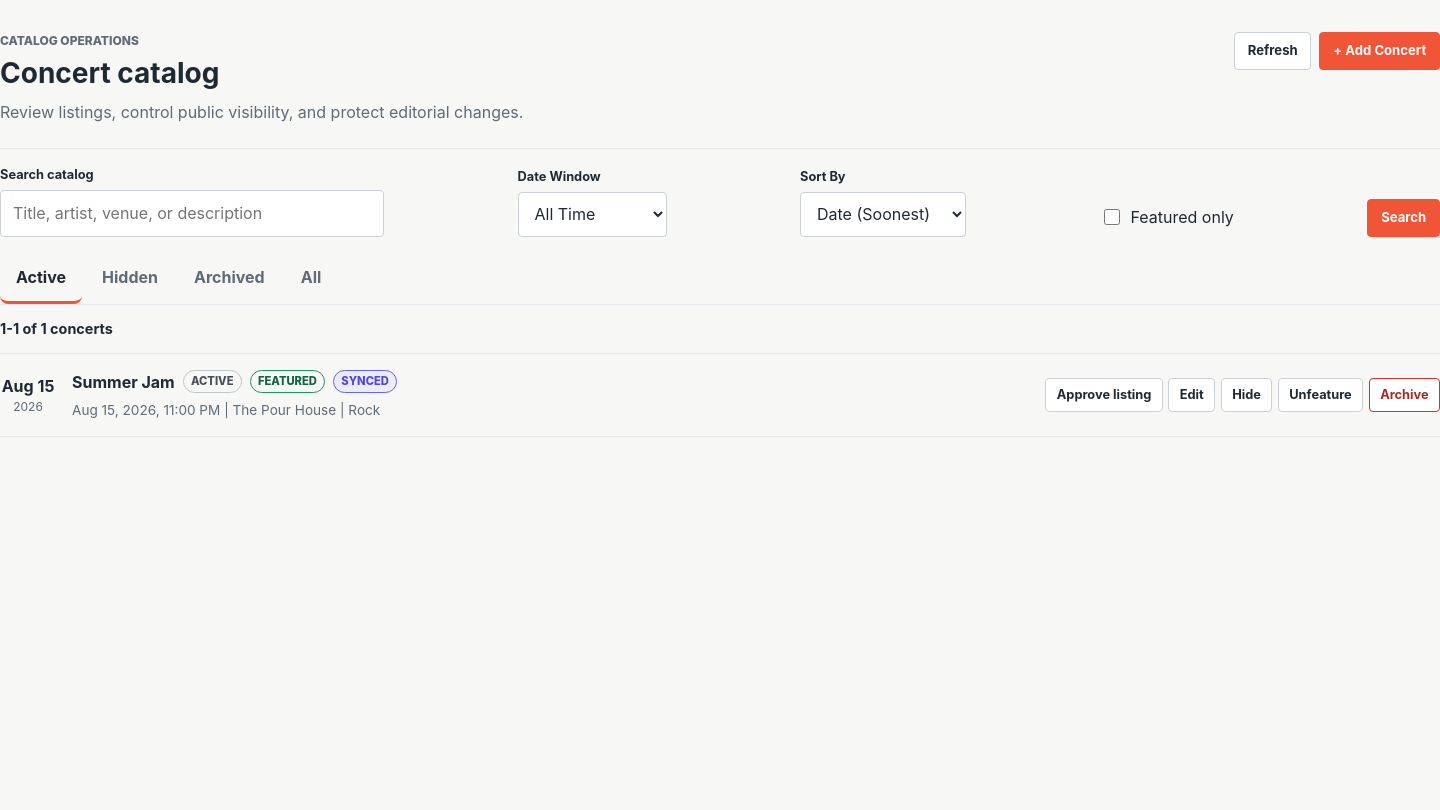
AdminConcertsPage › creates a new concert via the Add Concert modal
Click the button "+ Add Concert" at (1380, 51), box [1320,32,1439,70]
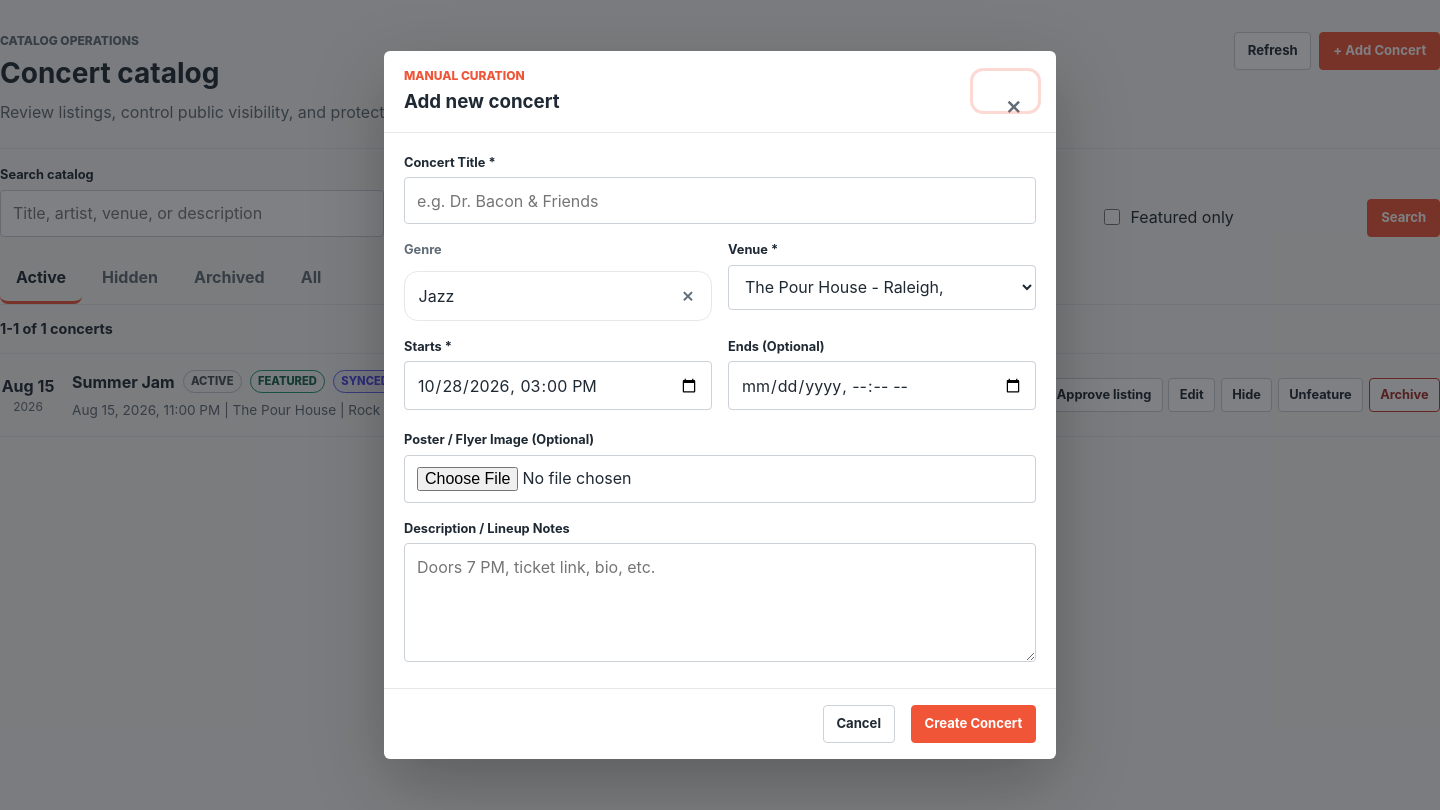
Expected: the text "Add new concert" is shown, [404,88,560,116]
Type "New Funk Show" into the field with placeholder "e.g. Dr. Bacon & Friends" at (720, 201), box [404,177,1036,224]
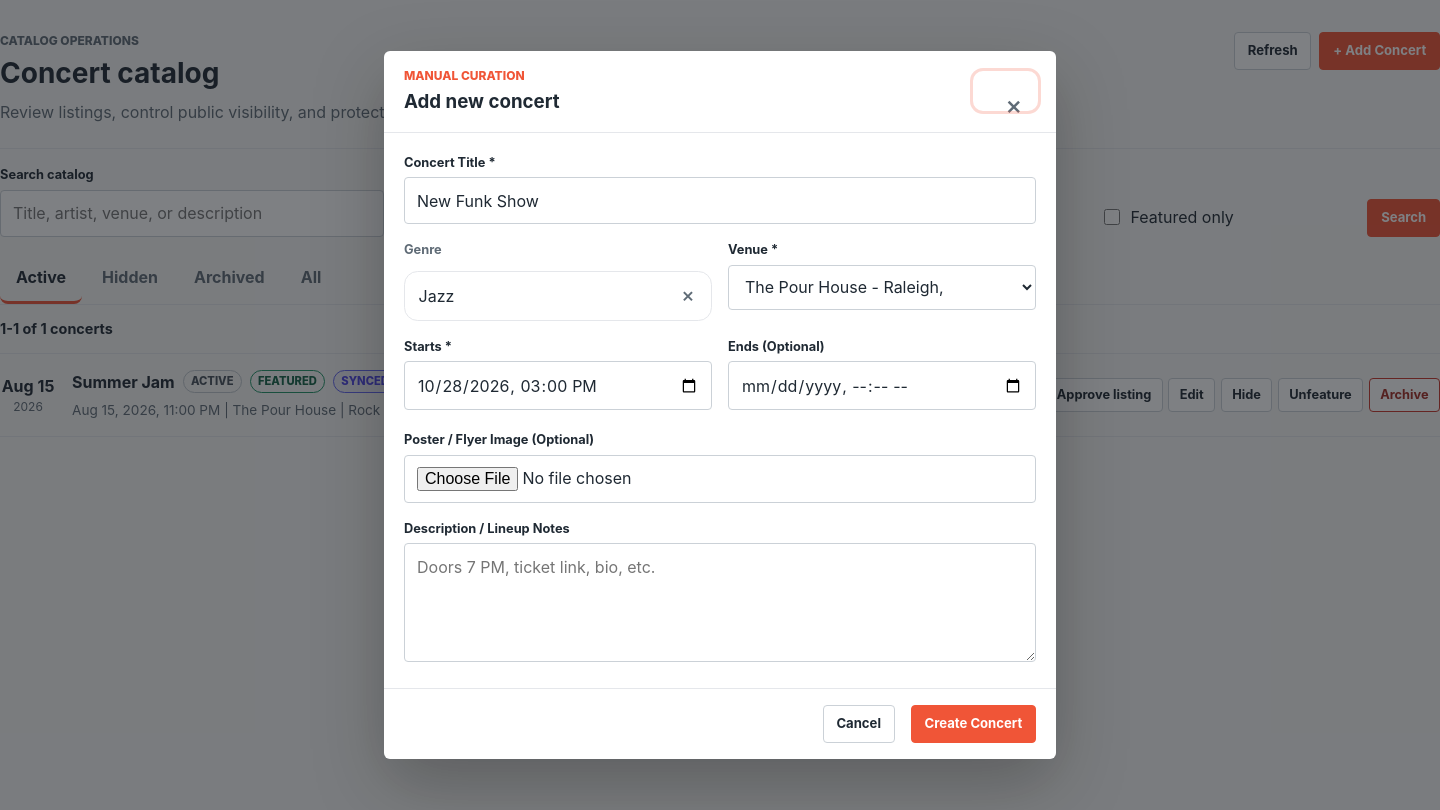
Replace the text in the dropdown labelled "Genre" with "jazz" at (558, 296), box [404,271,712,321]
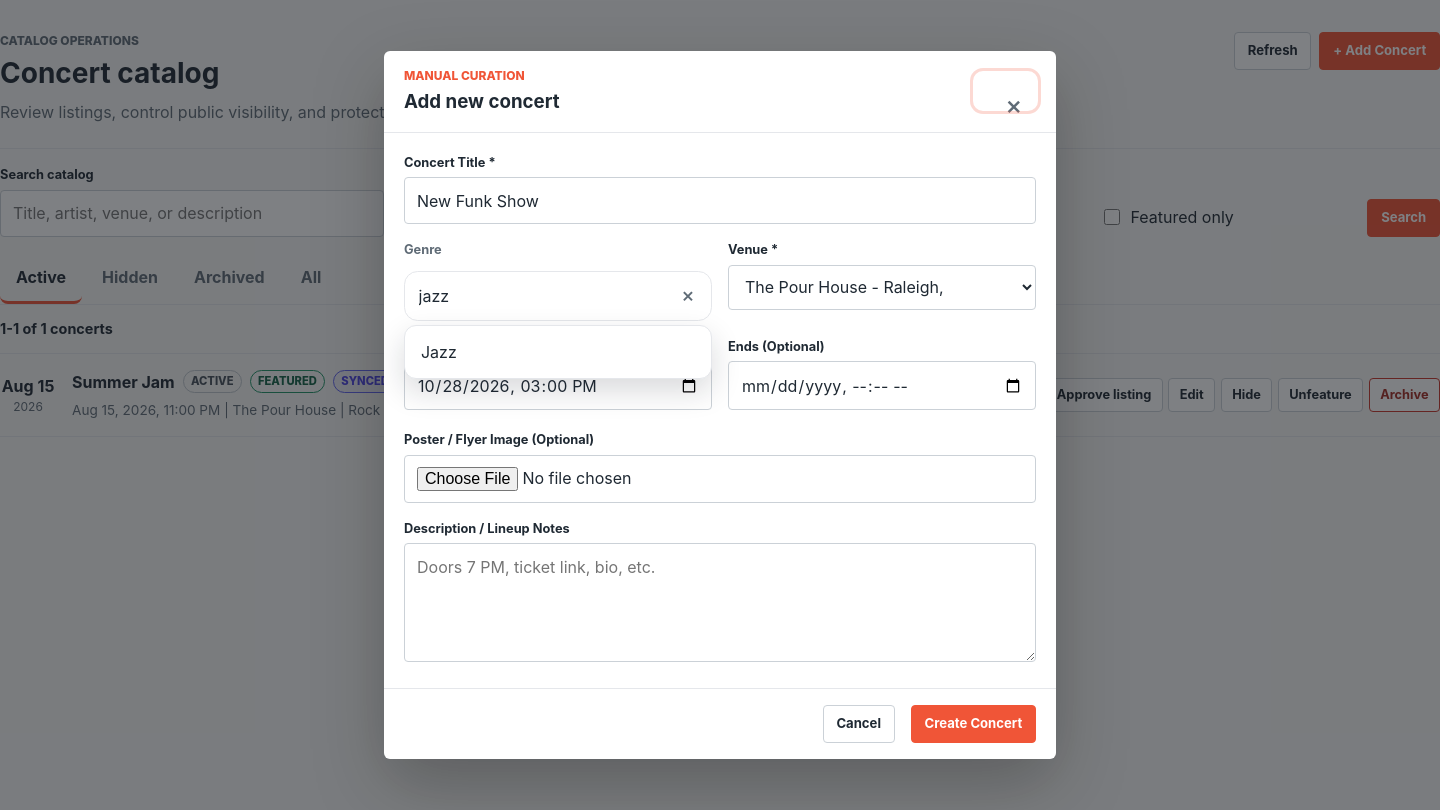
Click the option "Jazz" at (439, 352), box [421,342,457,362]
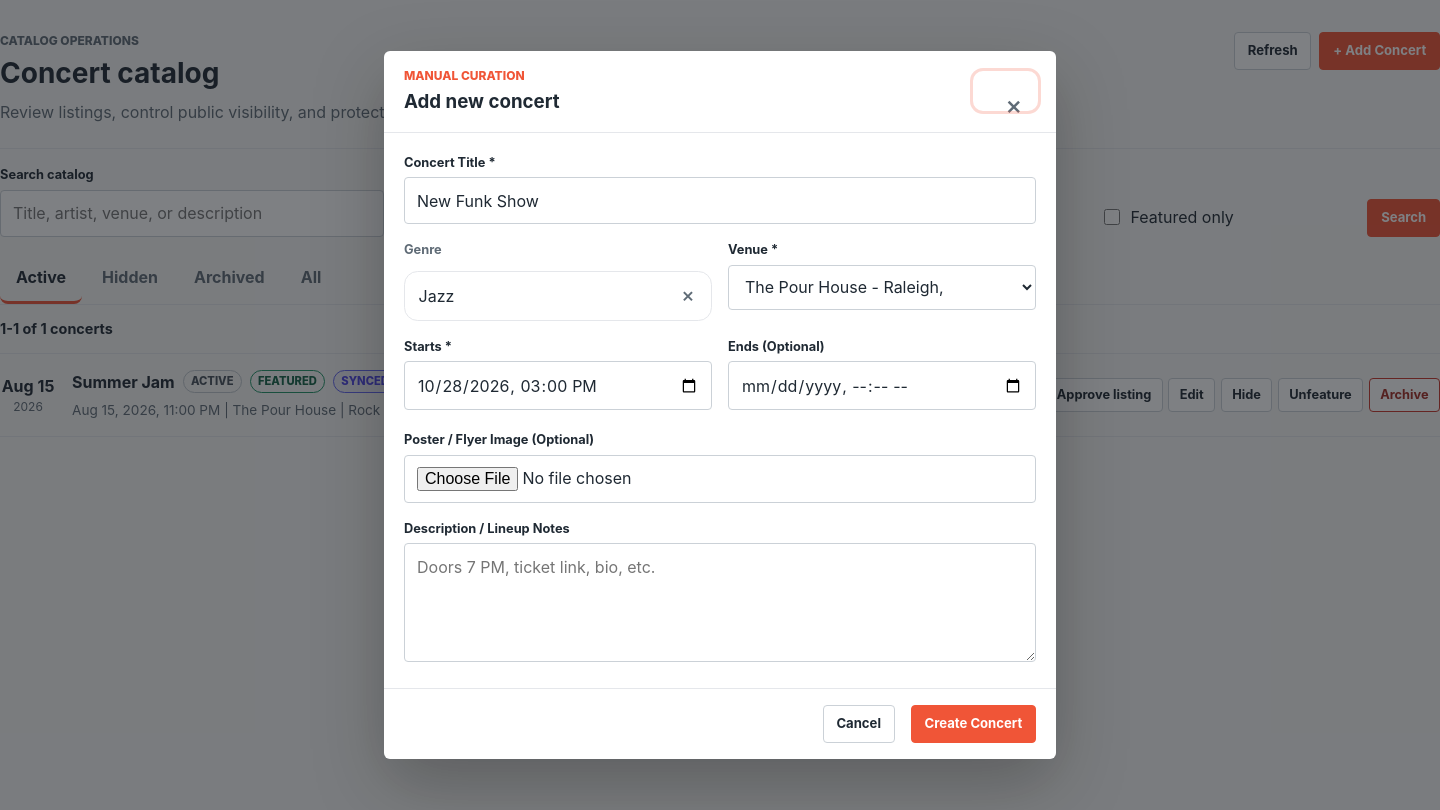
Select "The Pour House - Raleigh," in the dropdown labelled "Venue *" at (882, 287), box [728,265,1036,310]
Submit the dialog with class "editor", box [384,51,1056,759]
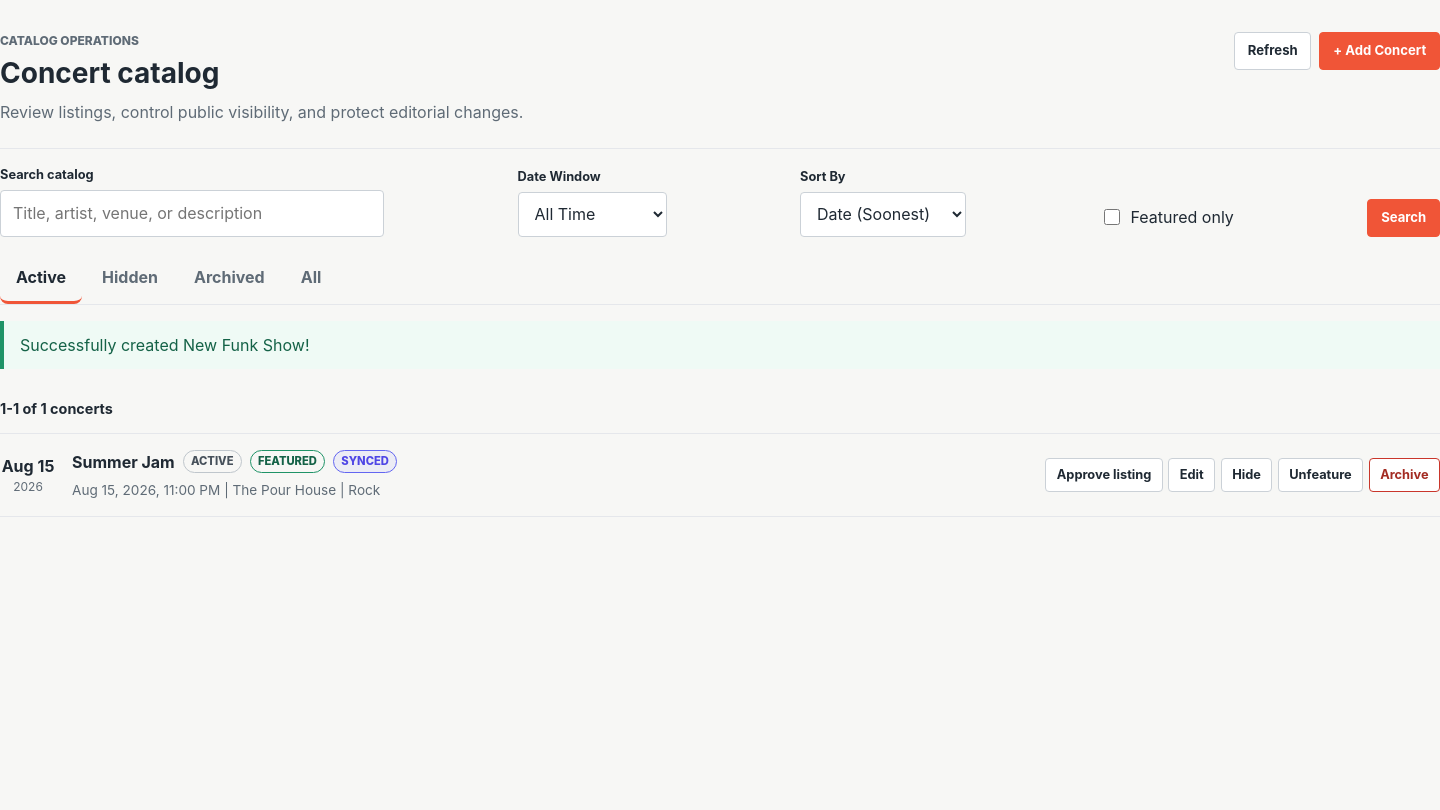
Expected: the text "Successfully created New Funk Show!" is shown, [0,320,1439,368]
